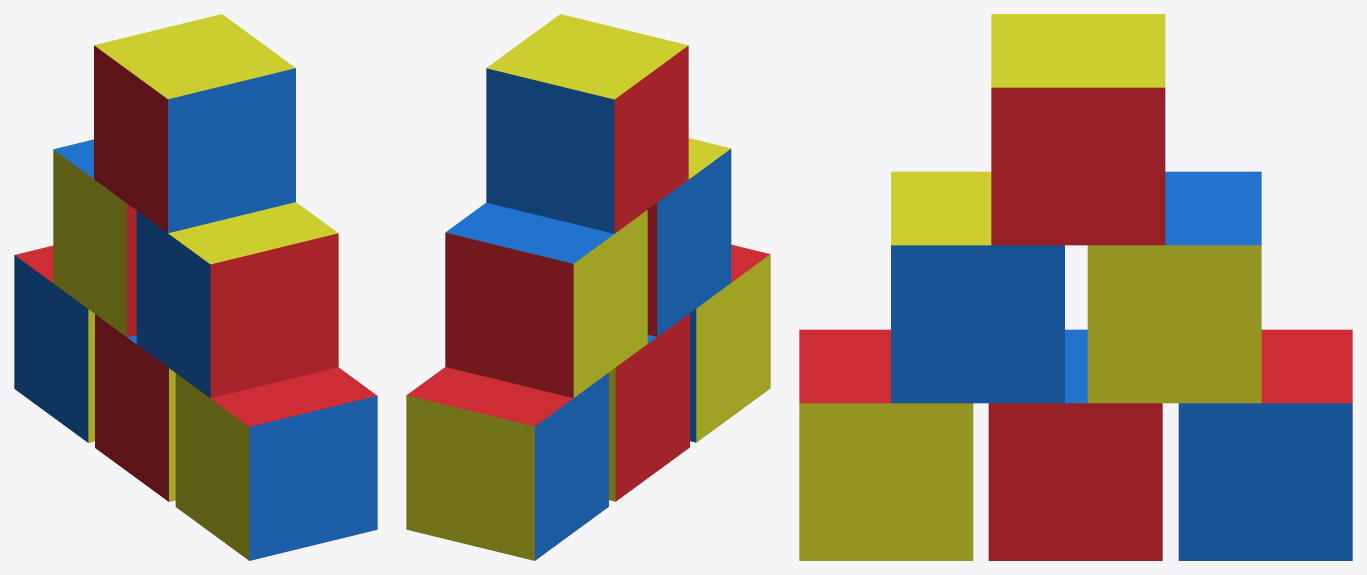
The model's file is Blöcke.glb.
3 views of the same model, side by side, from view 1: azimuth 30°, elevation 25°; view 2: azimuth 150°, elevation 25°; view 3: azimuth 270°, elevation 25° (orthographic). The views are drawn at different scales.
Visible parts, largest first — view 1: Block.006, Block.005, Block.001, Block.004, Block.003, Block.002; view 2: Block.006, Block.004, Block.003, Block.005, Block.001, Block.002; view 3: Block.006, Block.005, Block.004, Block.001, Block.003, Block.002.
Boxes of the visible parts, x1,y1,x2,y2 form: Block.006: [94, 14, 295, 233]; Block.005: [136, 202, 338, 398]; Block.001: [175, 367, 377, 560]; Block.004: [53, 139, 136, 337]; Block.003: [14, 245, 94, 442]; Block.002: [95, 314, 175, 501]; Block.006: [486, 14, 688, 233]; Block.004: [445, 202, 647, 397]; Block.003: [406, 367, 608, 560]; Block.005: [647, 138, 731, 336]; Block.001: [690, 244, 770, 442]; Block.002: [609, 313, 689, 501]; Block.006: [991, 14, 1165, 245]; Block.005: [891, 171, 1064, 403]; Block.004: [1087, 171, 1261, 403]; Block.001: [799, 329, 973, 560]; Block.003: [1178, 329, 1352, 560]; Block.002: [988, 329, 1162, 560].
Size of the model in its own units: 0.2308 by 0.6925 by 0.7338.
